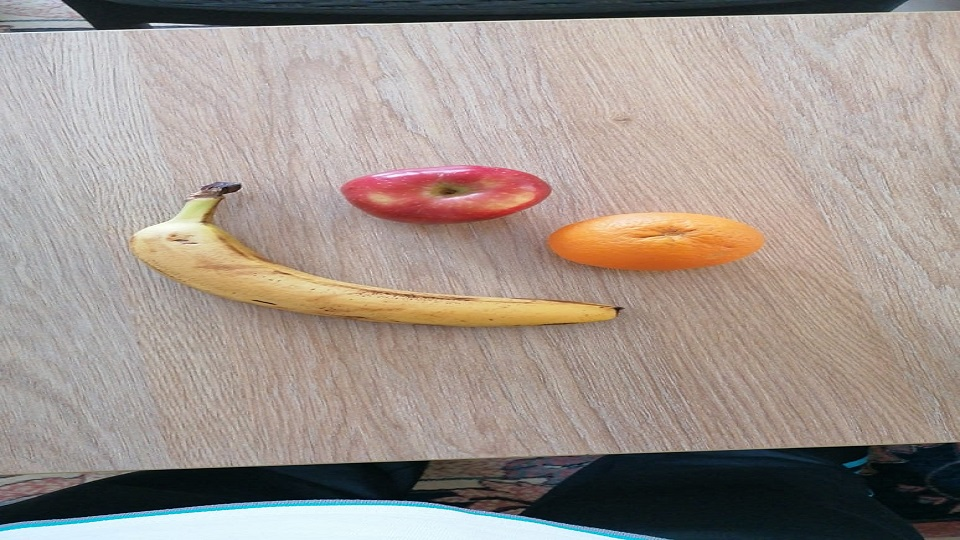elma: (340, 165, 551, 226)
muz: (128, 183, 619, 327)
portakal: (546, 212, 767, 271)
